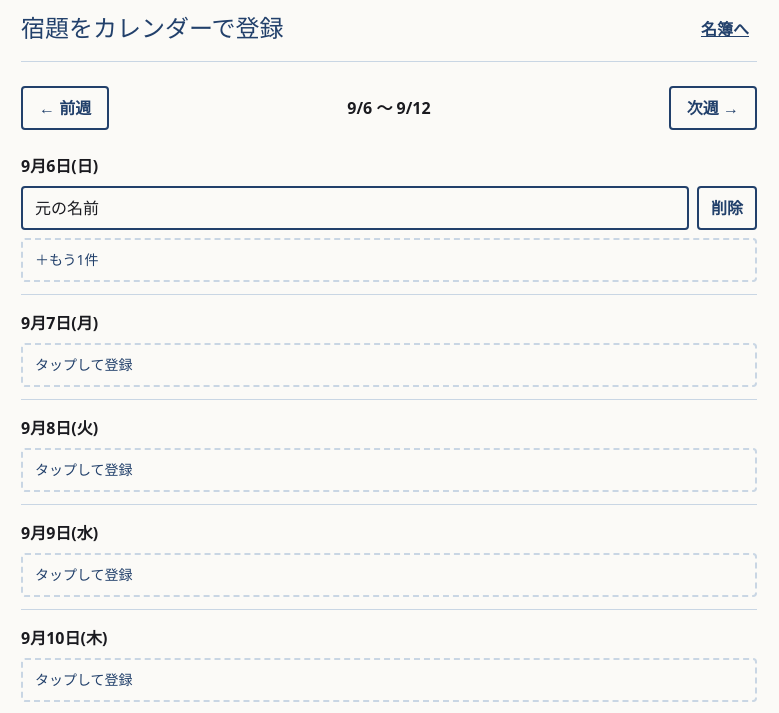
Scenario: カレンダー画面 › 登録済みの項目をタップして名前を編集できる
This screenshot has width=779, height=713.
Click the button "元の名前" at (67,208), box [21,186,689,230]
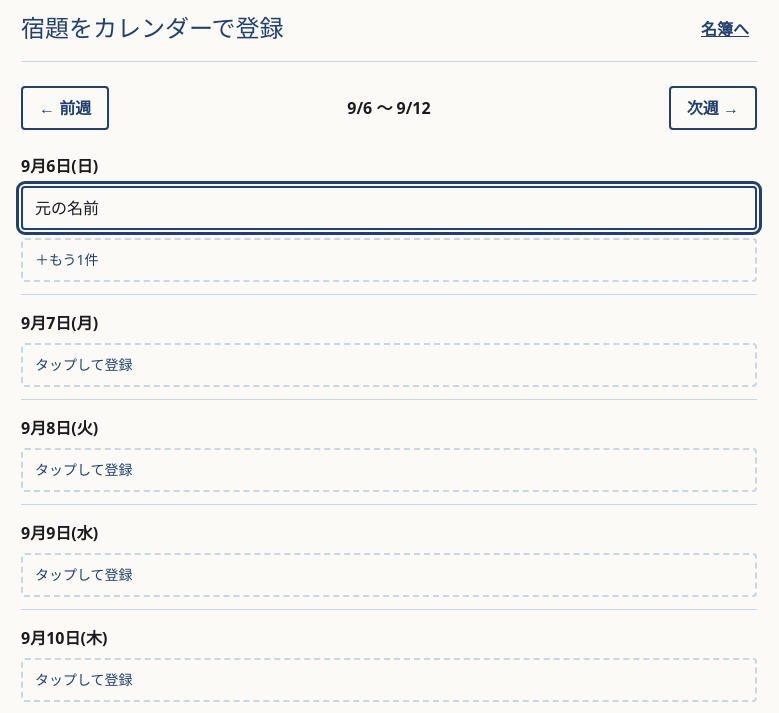
Replace the text in the field with "新しい名前" at (389,208), box [21,186,757,230]
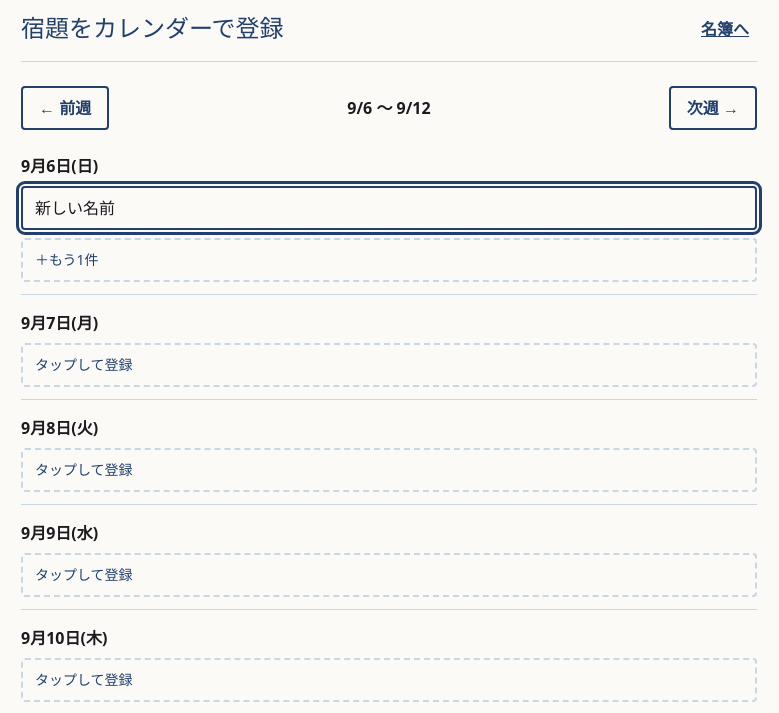
Leave the field, box [21,186,757,230]
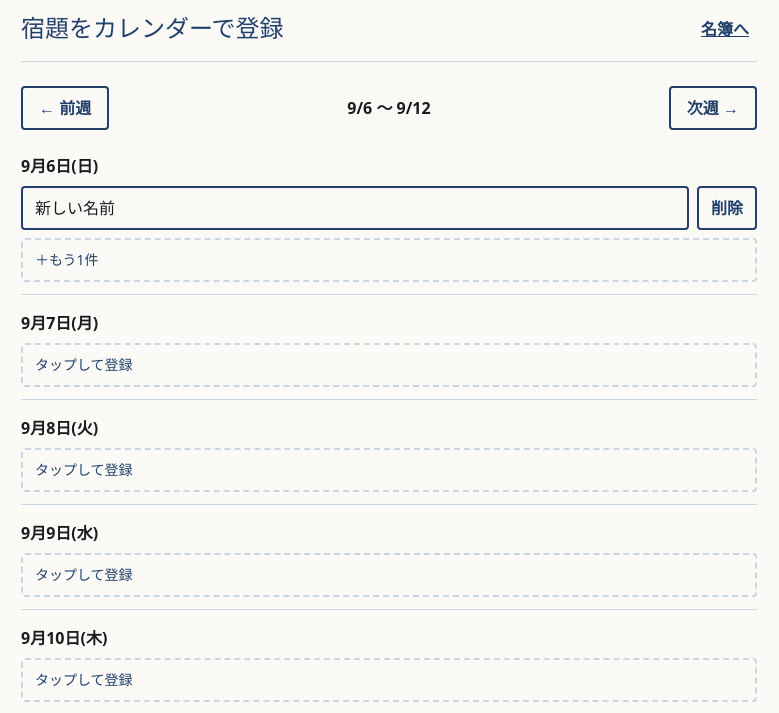
Expected: the button "新しい名前" is shown, [21,186,689,230]
